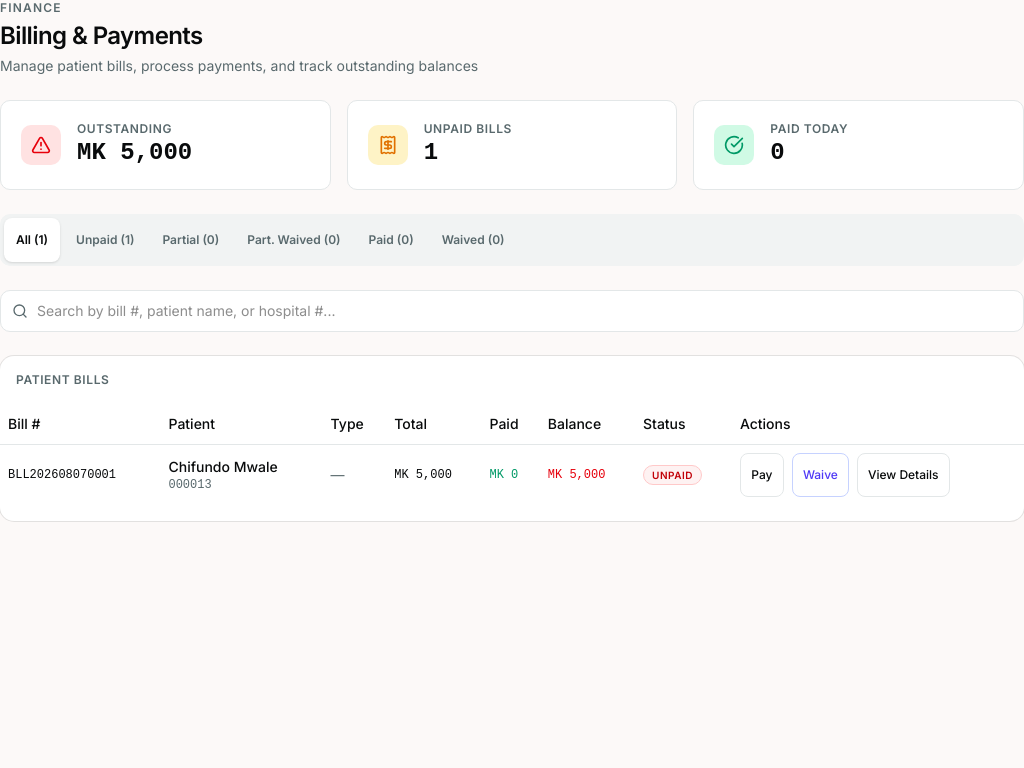
it: BillingPage › shows a server error inside the waive dialog when the waiver is rejected
The image size is (1024, 768).
expect the text "BLL202608070001" is shown: met, box left=0, top=444, right=160, bottom=504
Click the button "Waive": (820, 474) left=792, top=452, right=849, bottom=496
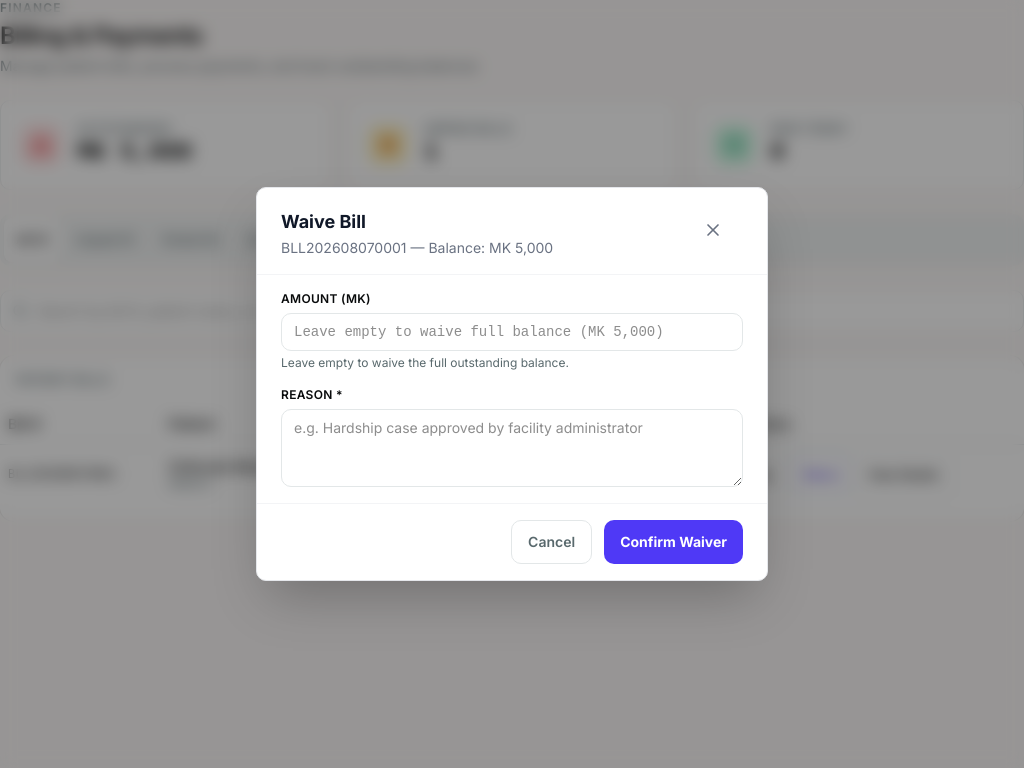
In the text box with placeholder "e.g. Hardship case approved by facility administrator": (512, 448) left=281, top=409, right=743, bottom=487, type "Over-waive."
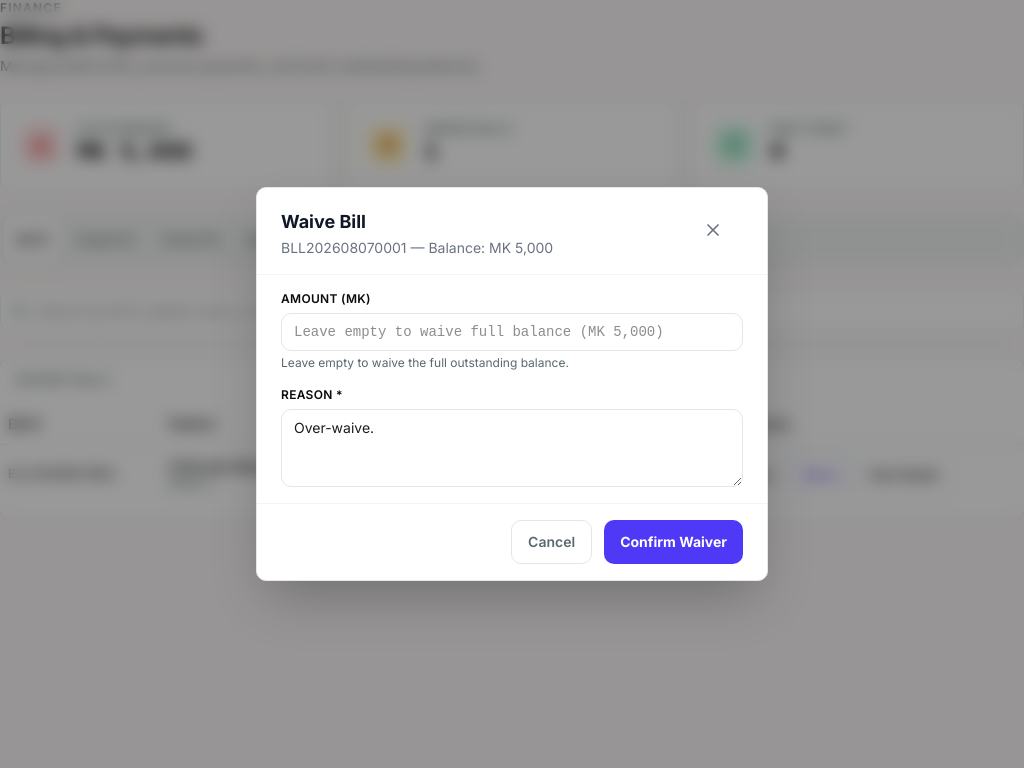
Click the button "Confirm Waiver": (674, 542) left=604, top=520, right=743, bottom=564
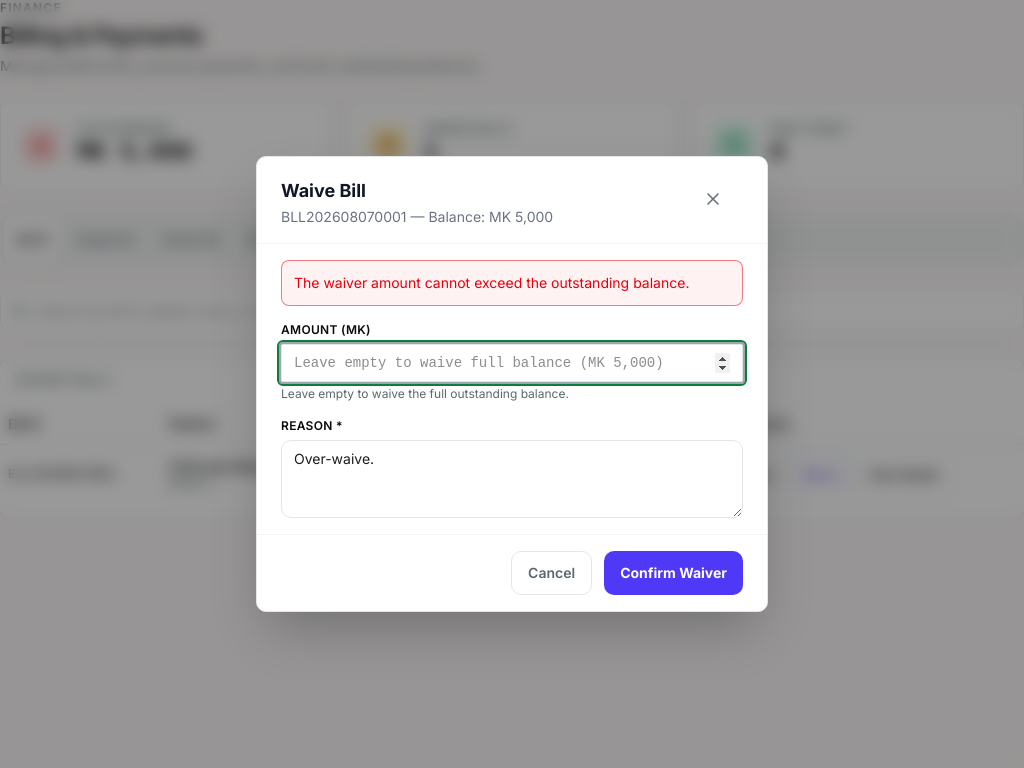
expect the dialog is shown: met, box left=256, top=156, right=768, bottom=612
expect the text "The waiver amount cannot exceed the outstanding balance." is shown: met, box left=281, top=260, right=743, bottom=306
